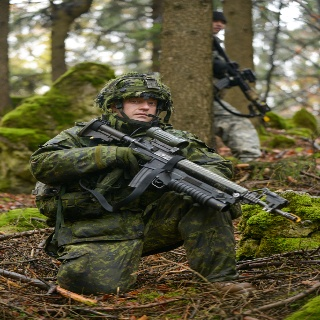rifle: (74, 115, 303, 233), (212, 35, 271, 112)
